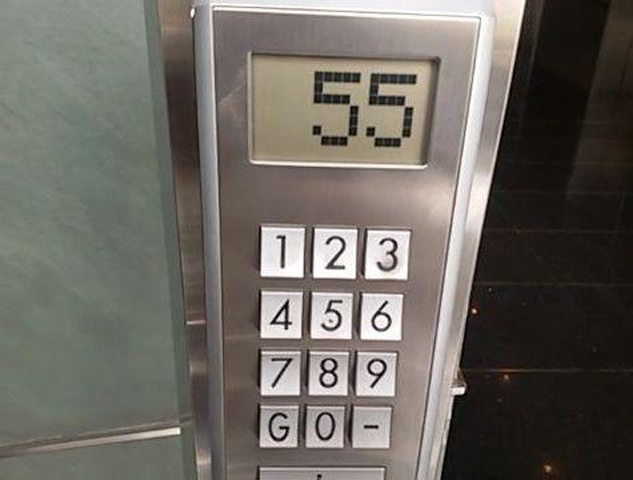-: (349, 402, 395, 452)
0: (301, 403, 347, 453)
1: (255, 223, 309, 281)
2: (308, 224, 362, 282)
3: (359, 226, 413, 284)
4: (256, 288, 305, 342)
5: (307, 289, 356, 343)
6: (355, 288, 404, 342)
7: (255, 346, 304, 400)
8: (303, 346, 352, 400)
9: (351, 347, 400, 401)
G: (255, 403, 301, 453)
led: (244, 45, 445, 175)
